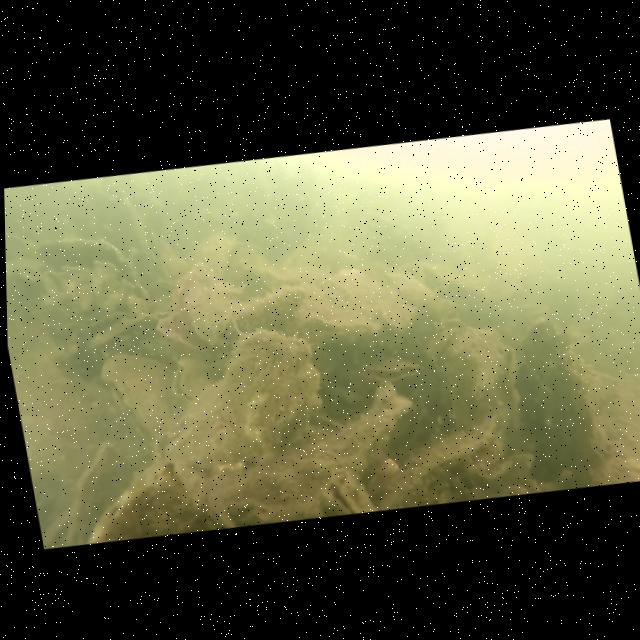Oyster-Closed: (144, 317, 335, 483), (369, 420, 512, 517), (411, 292, 463, 336)
Oyster-Indeterminate: (206, 383, 427, 537), (502, 310, 612, 487), (72, 456, 229, 552), (419, 317, 528, 449), (211, 284, 314, 347), (161, 255, 222, 314)
Oyster-Open: (96, 344, 182, 448), (152, 290, 254, 364), (313, 463, 375, 521), (345, 346, 423, 392), (166, 355, 218, 408)
